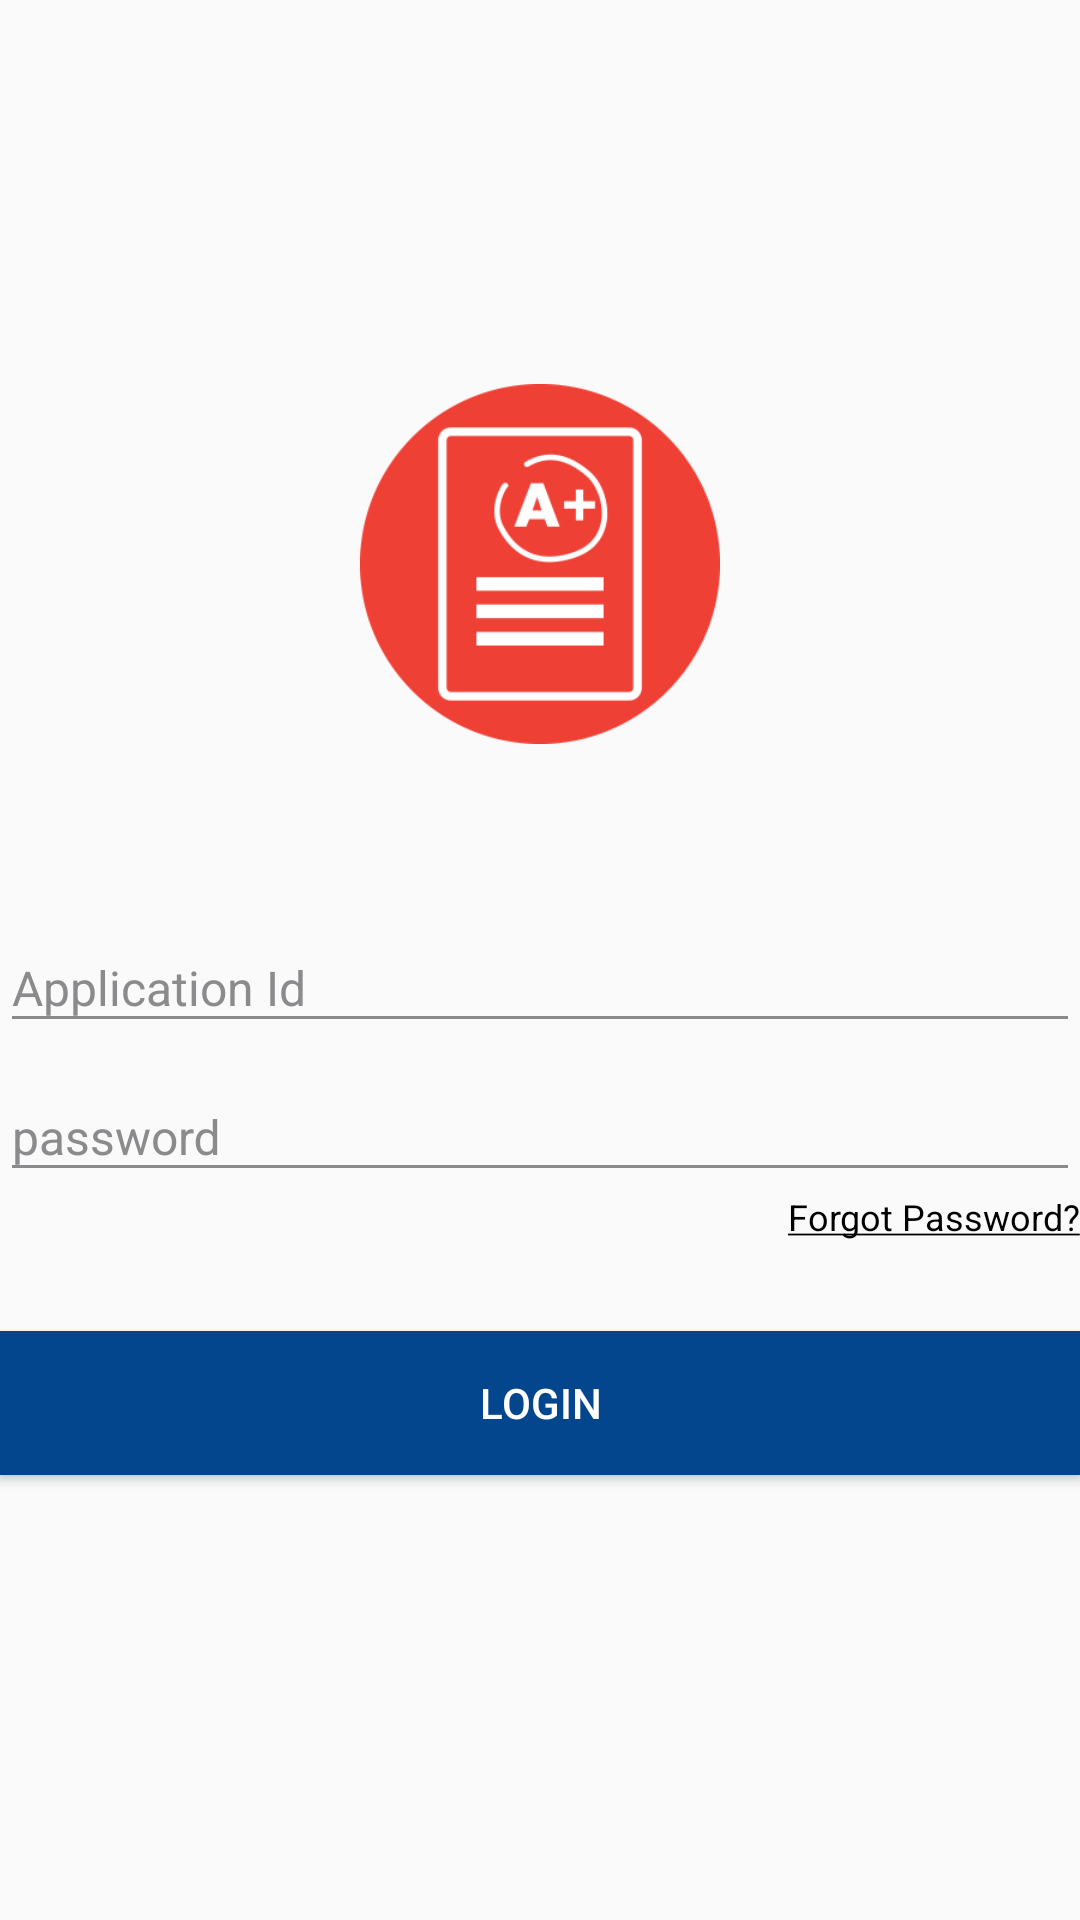

Icon bounding boxes for this 1080px x 1920px phone screenshot, format (x1=x1, y1=y1, x2=x2, y2=y2):
app: (x1=360, y1=384, x2=720, y2=744)
